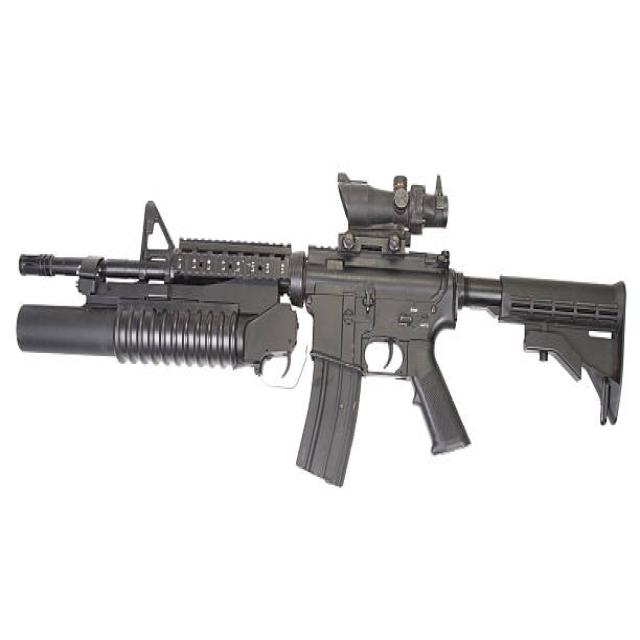rifle: (3, 163, 638, 514)
